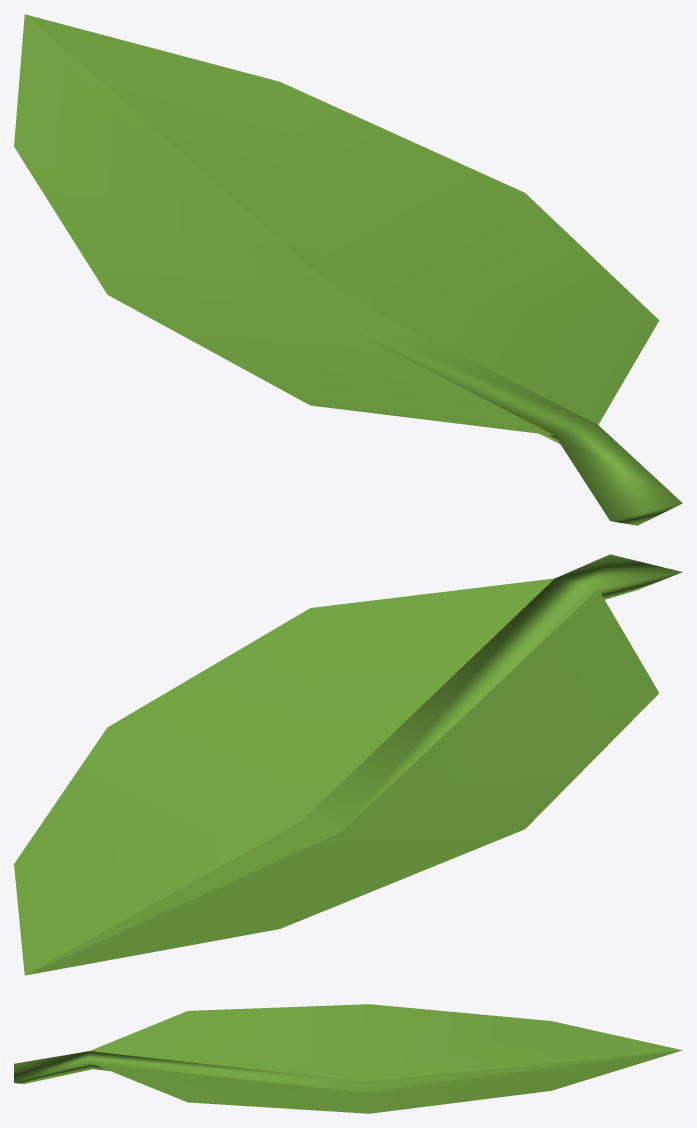
File: leaf-cherry.glb
The picture shows the model from 3 angles, top to bottom: view 1: azimuth 30°, elevation 25°; view 2: azimuth 150°, elevation 25°; view 3: azimuth 270°, elevation 25°; orthographic projection. The views are drawn at different scales.
Parts seen in each view (by area): view 1: leaf-cherry; view 2: leaf-cherry; view 3: leaf-cherry.
Boxes of the visible parts, x1,y1,x2,y2 form: leaf-cherry: (14, 14, 682, 525); leaf-cherry: (14, 554, 682, 975); leaf-cherry: (14, 1004, 682, 1113).
Bounding box in the file's own units: 0.2679 × 0.0563 × 0.6908.
1 material, 1 textured.
